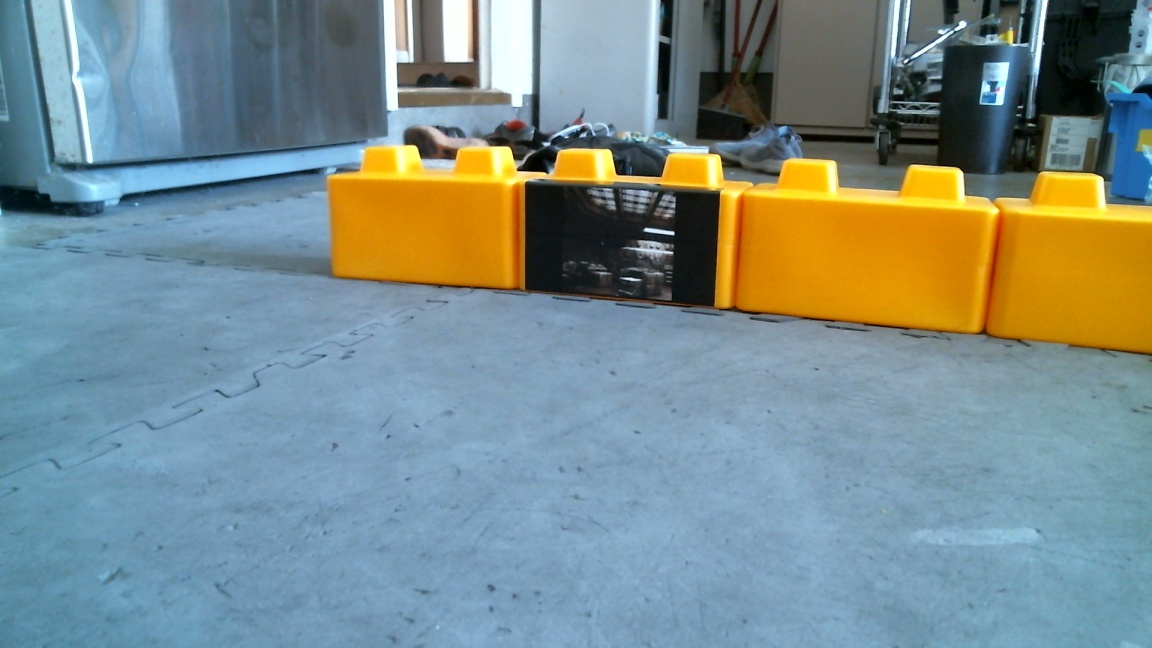center: (323, 153, 972, 332)
